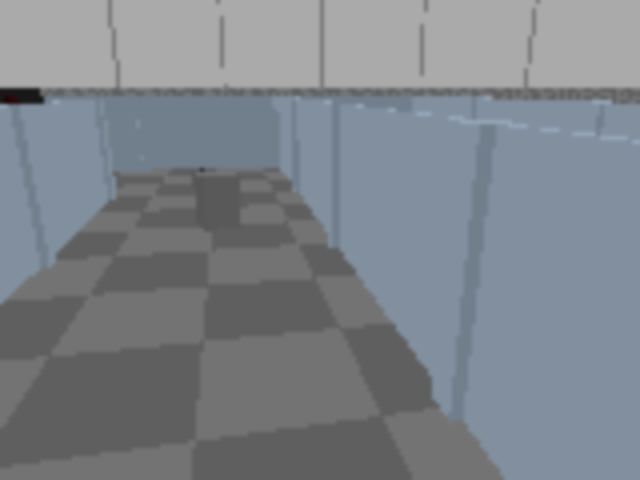obstacle: (192, 169, 242, 231)
